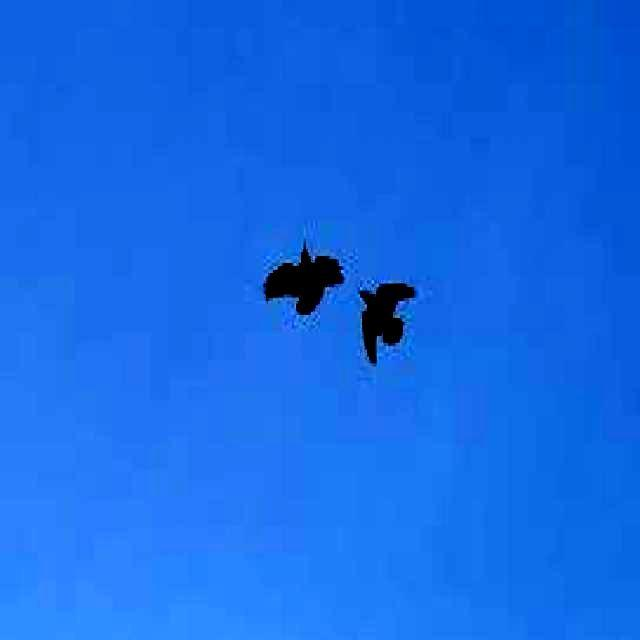bird: (248, 240, 354, 322), (355, 268, 414, 379)
